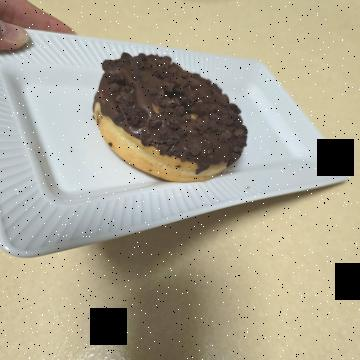doughnut: (44, 112, 198, 292)
